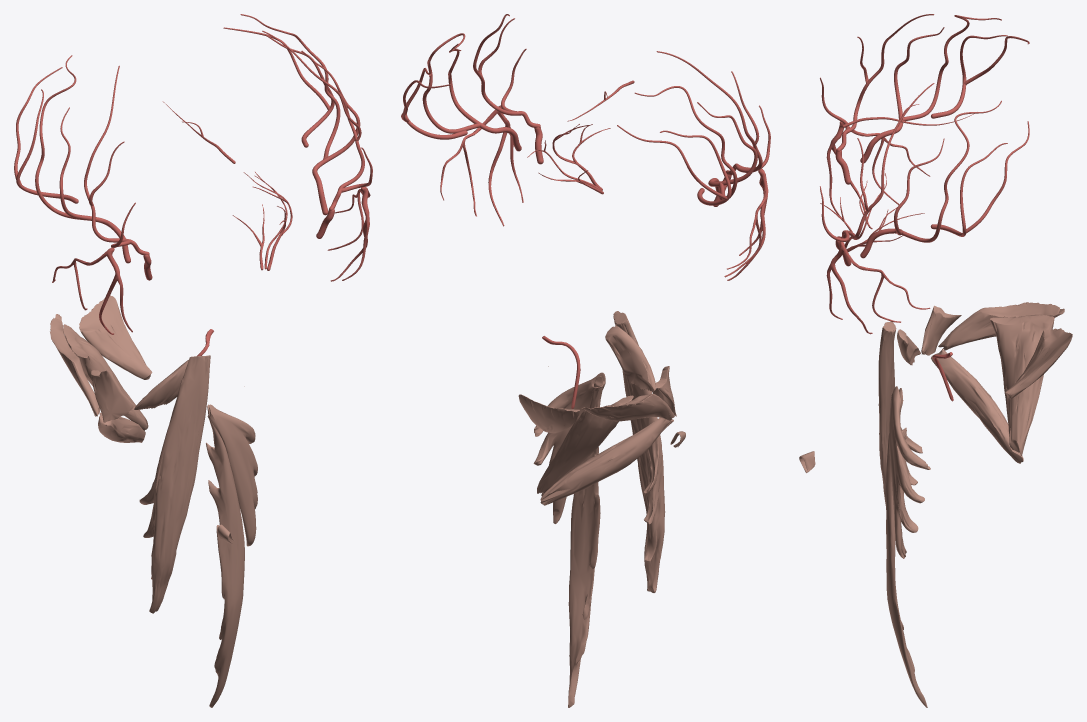
File: other-24.glb
3 renders of one model, left to right at view 1: azimuth 30°, elevation 25°; view 2: azimuth 150°, elevation 25°; view 3: azimuth 270°, elevation 25°, orthographic. The views are drawn at different scales.
Visible parts, largest first — view 1: FJ1582, FJ1601, FJ1600, FJ1590, FJ1589, FJ1591, FJ1585, FJ1588, FJ1659, FJ1584, FJ1659M, FJ1664M (+7 smaller); view 2: FJ1601, FJ1582, FJ1584, FJ1589, FJ1600, FJ1588, FJ1585, FJ1590, FJ1659M, FJ1659, FJ1664M, FJ1662M (+5 smaller); view 3: FJ1589, FJ1600, FJ1584, FJ1582, FJ1601, FJ1585, FJ1590, FJ1659M, FJ1659, FJ1591, FJ1664, FJ1665M (+8 smaller).
Boxes of the visible parts, box(x1,y1,x2,y2) form: FJ1582: box(139, 355, 210, 613); FJ1601: box(206, 404, 244, 707); FJ1600: box(207, 404, 257, 546); FJ1590: box(79, 295, 152, 379); FJ1589: box(63, 324, 148, 430); FJ1591: box(90, 370, 134, 422); FJ1585: box(50, 314, 99, 416); FJ1588: box(134, 360, 244, 409); FJ1659: box(52, 248, 132, 334); FJ1584: box(98, 412, 145, 442); FJ1659M: box(327, 187, 370, 281); FJ1664M: box(301, 50, 360, 215); FJ1601: box(568, 376, 603, 707); FJ1582: box(613, 311, 665, 592); FJ1584: box(540, 418, 673, 505); FJ1589: box(537, 395, 633, 493); FJ1600: box(533, 372, 605, 523); FJ1588: box(548, 326, 656, 392); FJ1585: box(582, 394, 674, 421); FJ1590: box(518, 394, 579, 433); FJ1659M: box(440, 105, 523, 226); FJ1659: box(724, 168, 768, 280); FJ1664M: box(448, 43, 521, 151); FJ1662M: box(527, 124, 610, 190); FJ1589: box(990, 315, 1054, 455); FJ1600: box(889, 386, 930, 558); FJ1584: box(931, 348, 1023, 463); FJ1582: box(878, 321, 922, 556); FJ1601: box(886, 388, 927, 707); FJ1585: box(938, 302, 1064, 350); FJ1590: box(1005, 328, 1072, 399); FJ1659M: box(826, 241, 930, 334); FJ1659: box(826, 121, 930, 229); FJ1591: box(921, 305, 961, 355); FJ1664: box(860, 27, 944, 163); FJ1665M: box(902, 100, 1001, 242).
Size of the model in its own units: 0.1447 by 0.2875 by 0.1095.
